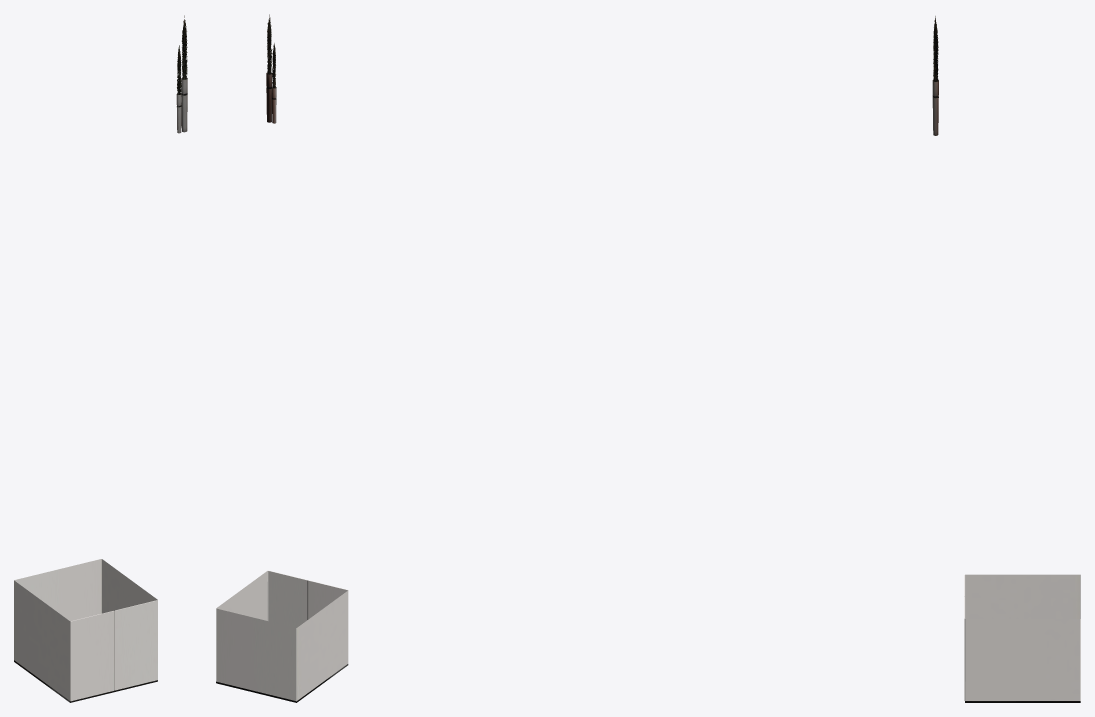
Rendered from WhiteCabinetFloor.glb.
The picture shows the model from 3 angles, left to right: view 1: azimuth 30°, elevation 25°; view 2: azimuth 150°, elevation 25°; view 3: azimuth 270°, elevation 25°; orthographic projection. The views are drawn at different scales.
Visible parts, largest first — view 1: Bathroom.038, Plants, Bathroom.043; view 2: Bathroom.038, Plants; view 3: Bathroom.038.
Part boxes in pixels (x1,y1,x2,y2): Bathroom.038: (14,559,157,701); Plants: (176,15,187,133); Bathroom.043: (14,660,157,702); Bathroom.038: (216,570,348,701); Plants: (266,14,276,123); Bathroom.038: (964,574,1080,700).
Size of the model in its own units: 3.42 by 13.25 by 8.33.
Materials: 4 (4 with a texture image).
